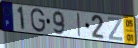1: (17, 6, 26, 32)
2: (92, 14, 106, 41)
9: (51, 10, 66, 36)
G: (30, 8, 47, 34)
I: (76, 12, 82, 38)
Z: (107, 16, 124, 42)
